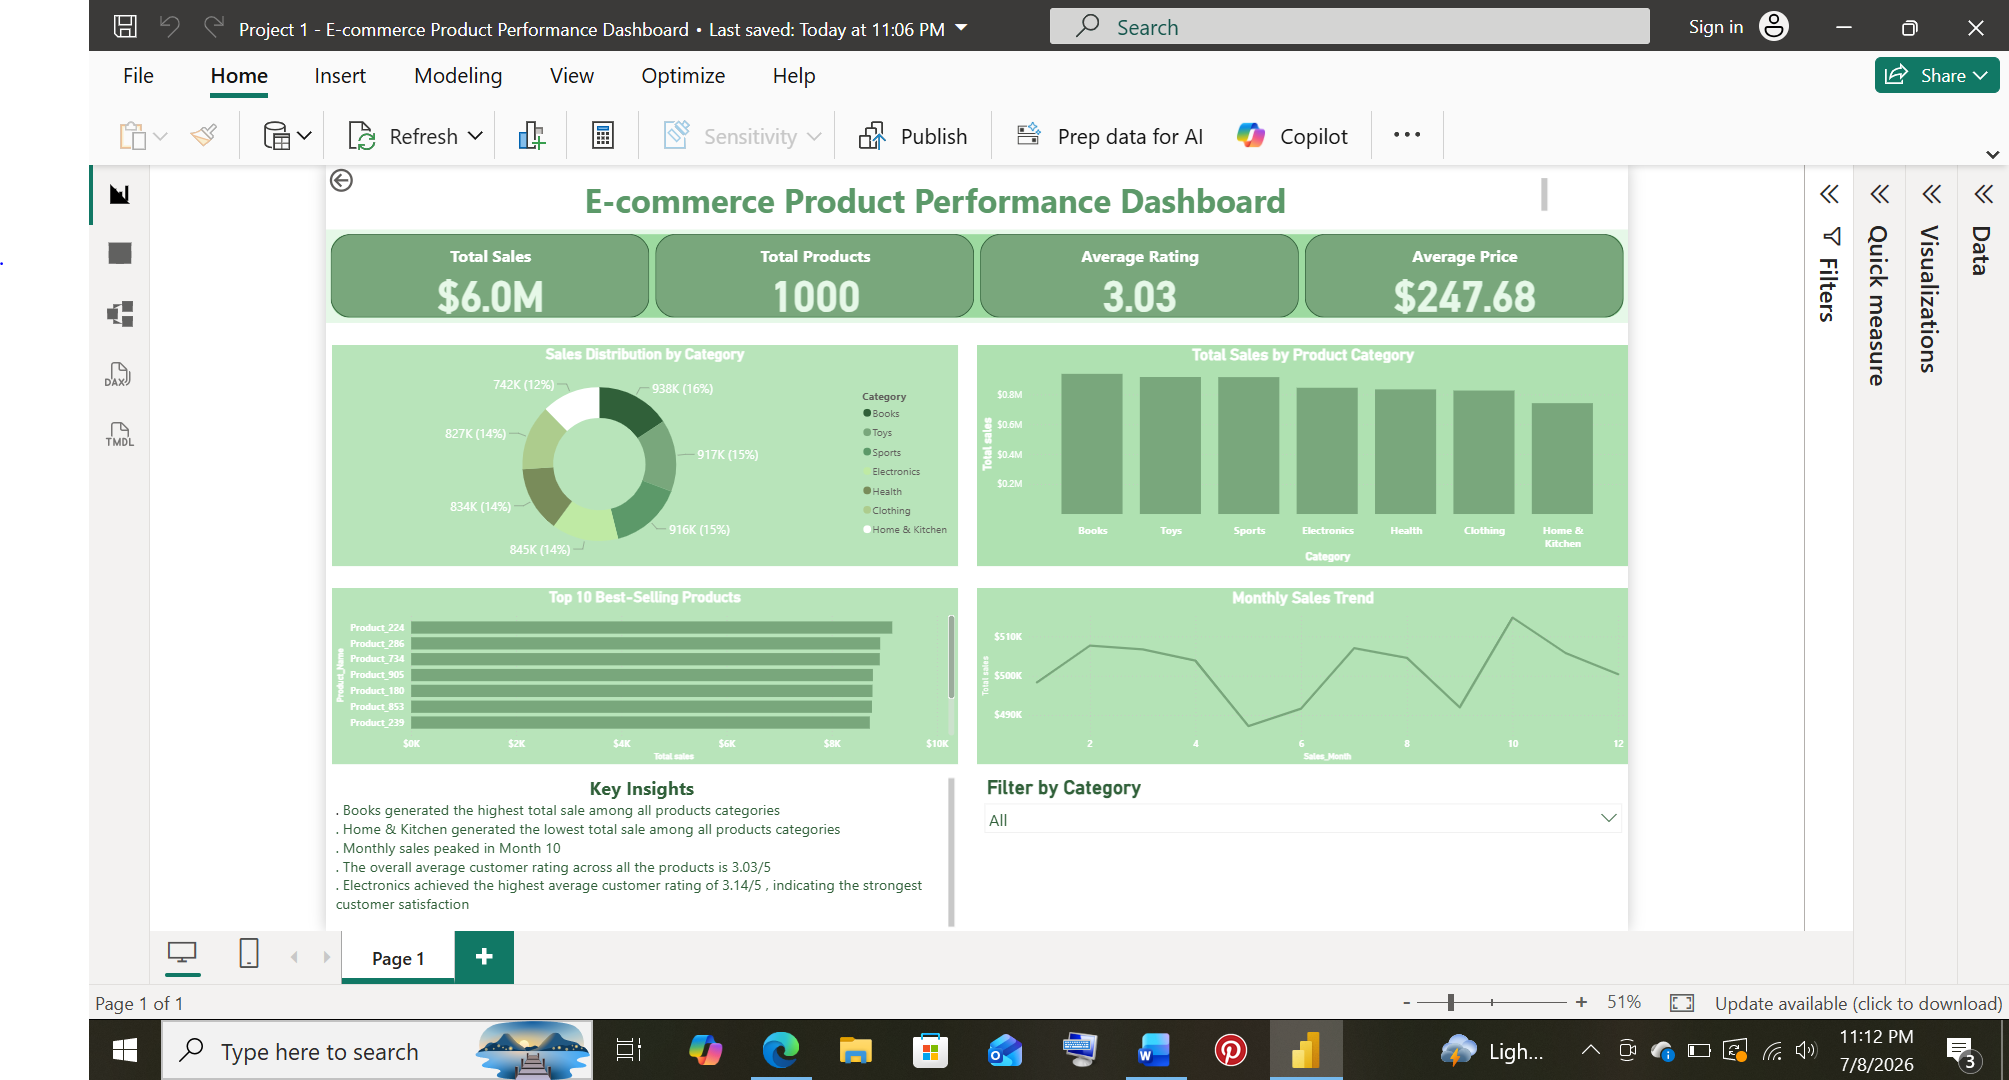

This screenshot's page, from the dashboard's own definition file:
{"tool":"powerbi","page":{"name":"Page 1","canvas":[1700,1000],"ordinal":0},"visuals":[{"type":"cardVisual","fields":{"Data":["Ecommerce_Sales_Analysis.Total sales","Ecommerce_Sales_Analysis.Total products","Ecommerce_Sales_Analysis.Average review score","Ecommerce_Sales_Analysis.Average Price"]},"box":[0,84.6,1700.9,121.7],"z":0},{"type":"textbox","box":[0,12.2,1599.5,59],"z":1},{"type":"clusteredBarChart","title":"Top 10 Best-Selling Products","fields":{"Category":["Ecommerce_Sales_Analysis.Product_Name"],"Y":["Ecommerce_Sales_Analysis.Total sales"]},"box":[7.9,552.9,817.4,230.1],"z":3},{"type":"clusteredColumnChart","title":"Total Sales by Product Category","fields":{"Category":["Ecommerce_Sales_Analysis.Category"],"Y":["Ecommerce_Sales_Analysis.Total sales"]},"box":[849.1,235.4,851.8,288.3],"z":4},{"type":"lineChart","title":"Monthly Sales Trend","fields":{"Category":["Ecommerce_Sales_Analysis.Sales_Month"],"Y":["Ecommerce_Sales_Analysis.Total sales"]},"box":[849.1,552.9,851.8,230.1],"z":8},{"type":"donutChart","title":" Sales Distribution by Category","fields":{"Category":["Ecommerce_Sales_Analysis.Category"],"Y":["Sum(Ecommerce_Sales_Analysis.Sales)"]},"box":[7.9,235.4,817.4,288.3],"z":9},{"type":"textbox","box":[7.9,793.6,817.4,206.3],"z":11},{"type":"actionButton","box":[0,0,100,40],"z":13},{"type":"slicer","fields":{"Values":["Ecommerce_Sales_Analysis.Category"]},"box":[849.1,793.6,851.8,206.3],"z":14}]}

Visuals, with their boxes in screenshot pixels (x1, y1, x2, y2):
cardVisual - Ecommerce_Sales_Analysis.Total sales x Ecommerce_Sales_Analysis.Total products: bbox=(73, 43, 1881, 172)
textbox: bbox=(73, 0, 1773, 29)
"Top 10 Best-Selling Products" clusteredBarChart: bbox=(82, 541, 950, 785)
"Total Sales by Product Category" clusteredColumnChart: bbox=(976, 203, 1881, 510)
"Monthly Sales Trend" lineChart: bbox=(976, 541, 1881, 785)
" Sales Distribution by Category" donutChart: bbox=(82, 203, 950, 510)
textbox: bbox=(82, 796, 950, 1016)
slicer - Ecommerce_Sales_Analysis.Category: bbox=(976, 796, 1881, 1016)
